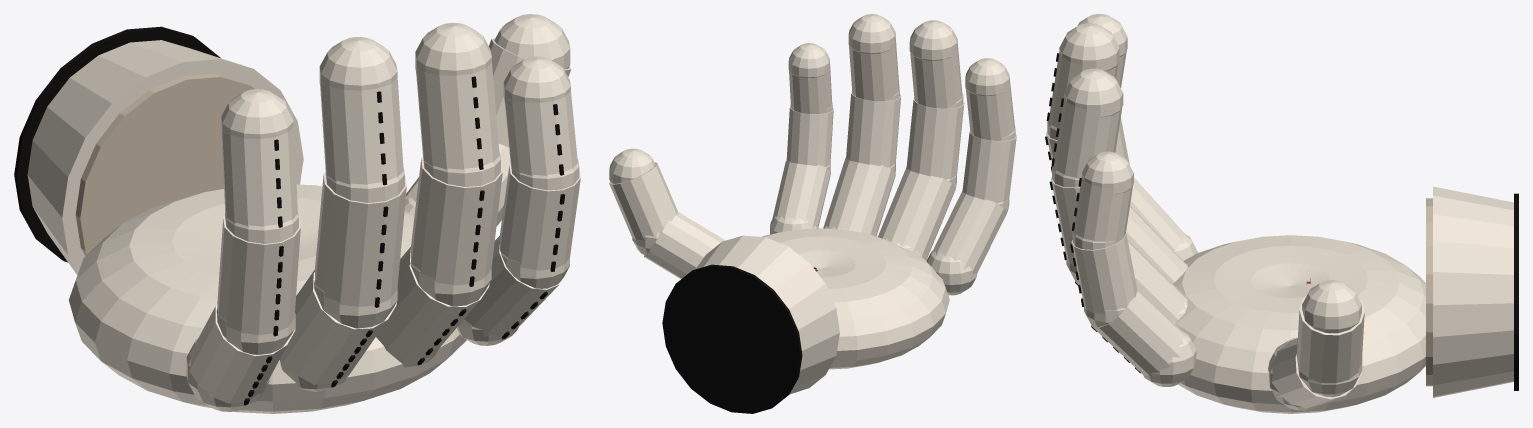
File: usher_hand_plaza.glb
The picture shows the model from 3 angles, left to right: view 1: azimuth 30°, elevation 25°; view 2: azimuth 150°, elevation 25°; view 3: azimuth 270°, elevation 25°; orthographic projection. The views are drawn at different scales.
Visible parts, largest first — view 1: usher_hand_plaza; view 2: usher_hand_plaza; view 3: usher_hand_plaza.
Boxes of the visible parts, x1=… form: usher_hand_plaza: x1=14, y1=14, x2=580, y2=413; usher_hand_plaza: x1=609, y1=14, x2=1016, y2=413; usher_hand_plaza: x1=1045, y1=14, x2=1518, y2=413.
Bounding box in the file's own units: 48.13 × 41.73 × 52.
